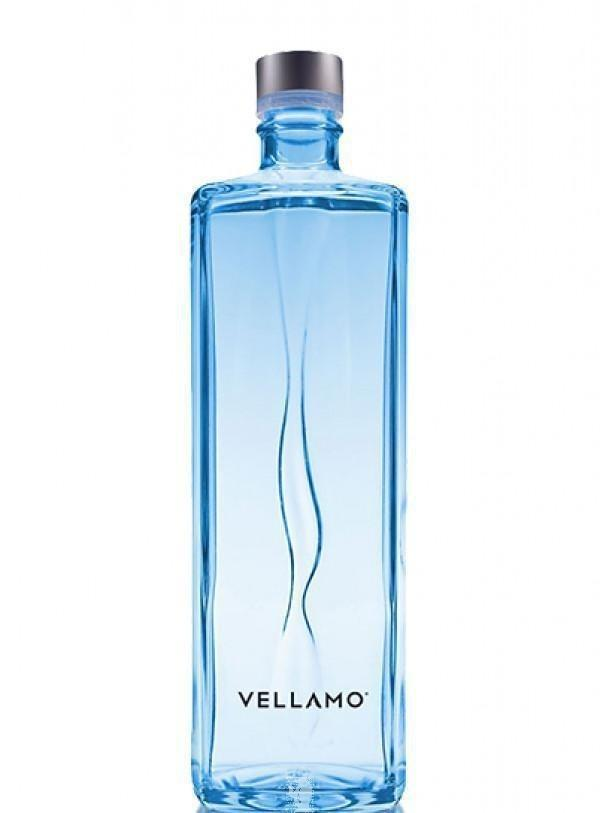bottle-glass: (178, 43, 412, 812)
